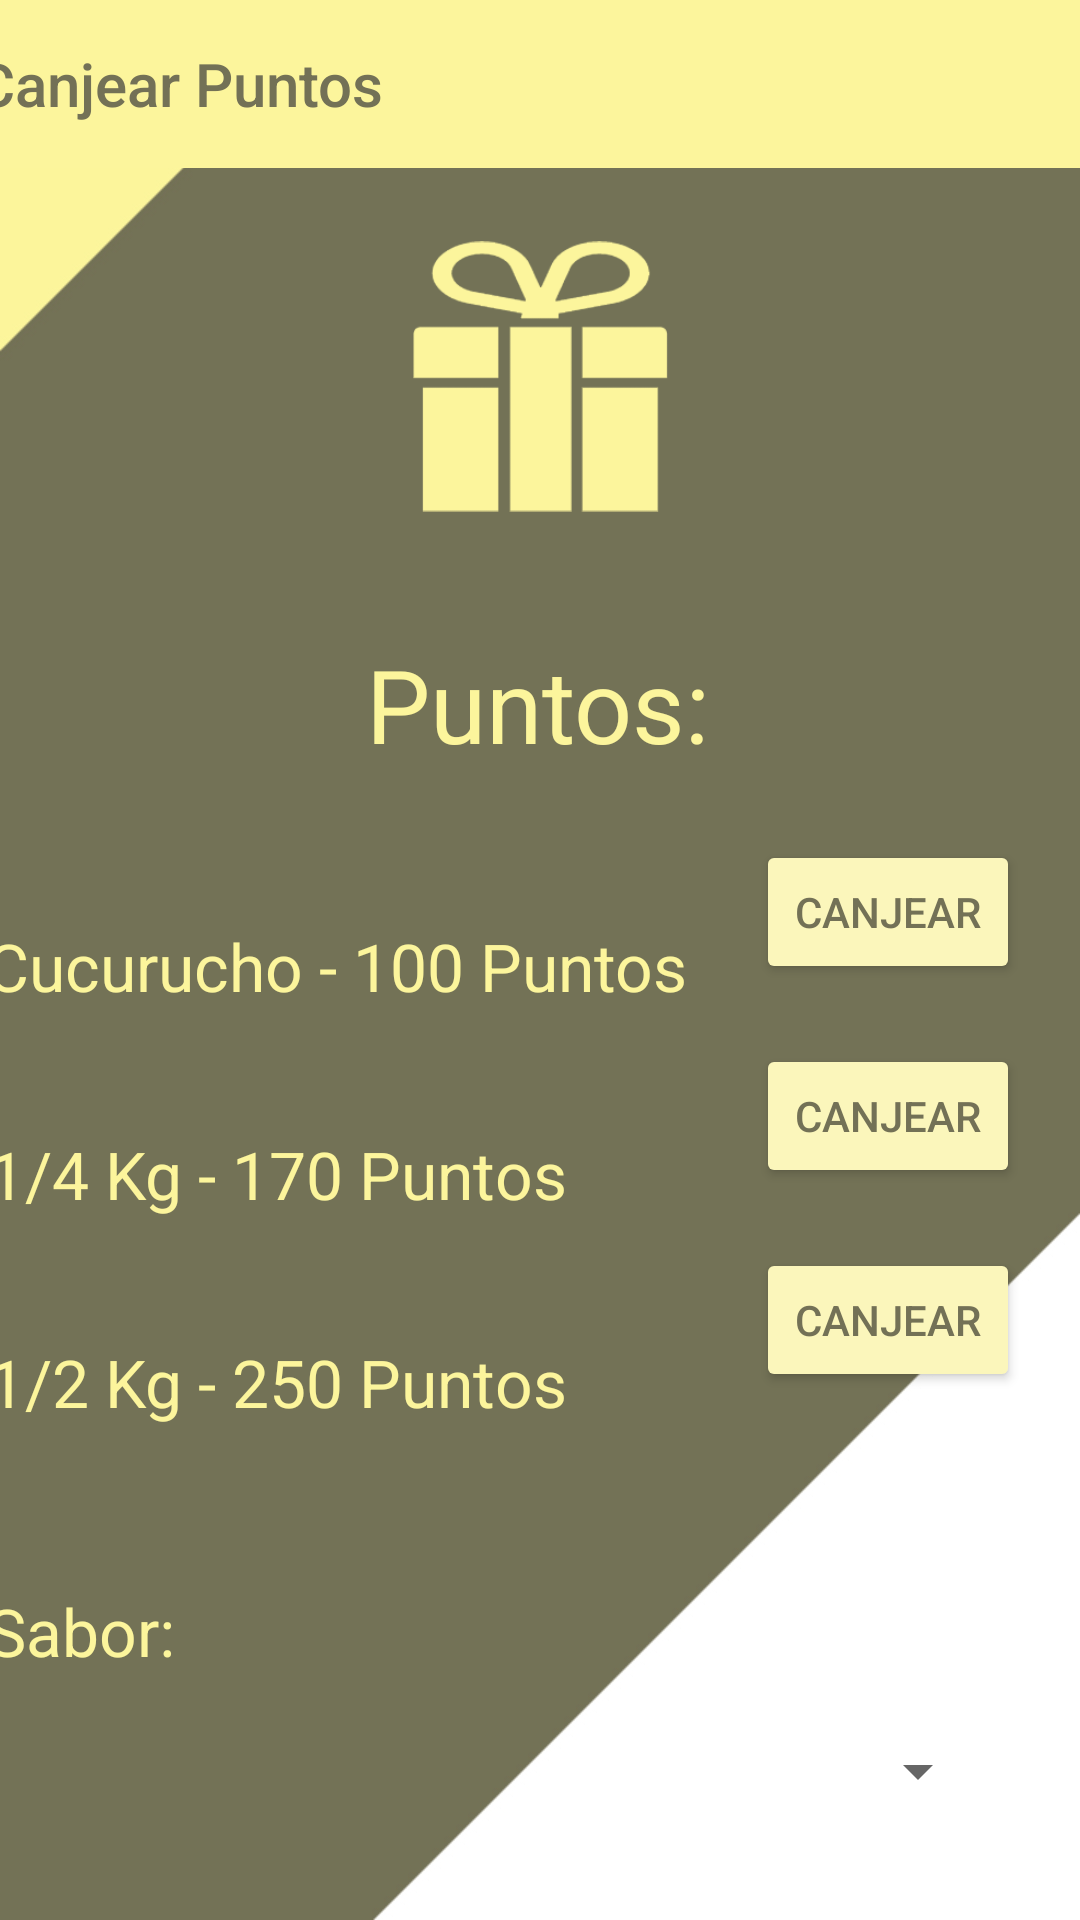

Screen size 1080 × 1920. Icon name, then its box in pixels as [left=x1, top=y1, right=x2, bottom=y2]:
gift: [left=413, top=241, right=667, bottom=512]
